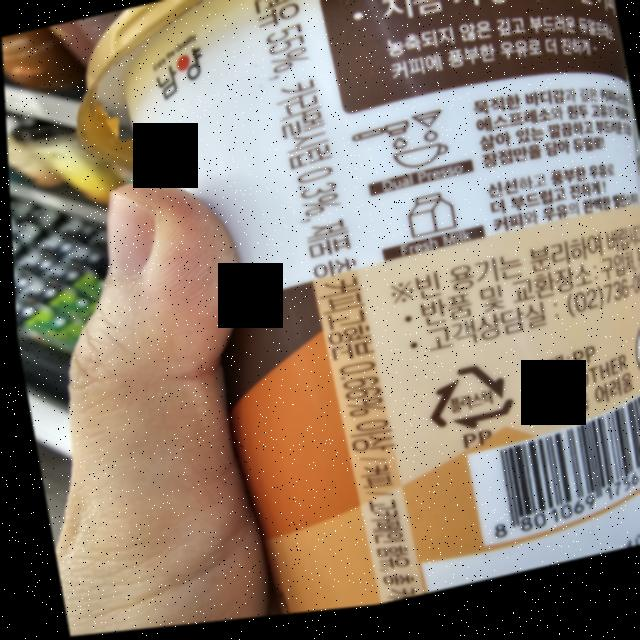Plastic: (413, 364, 516, 448)
